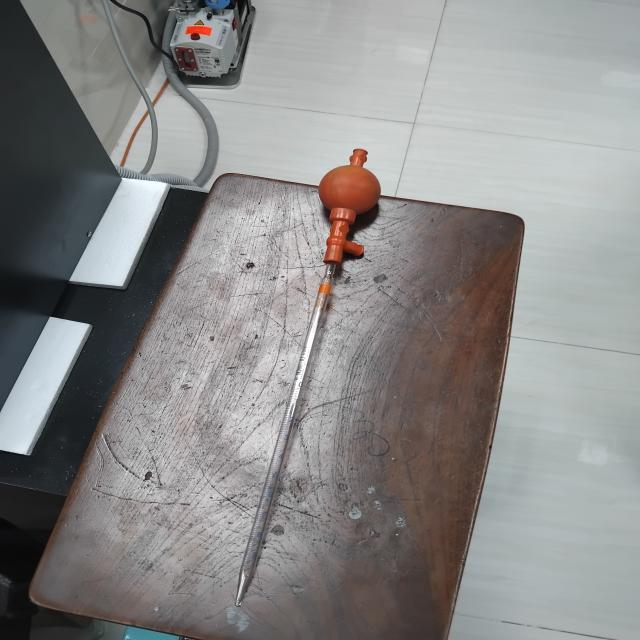Volumetric_Pipet: (202, 118, 432, 618)
